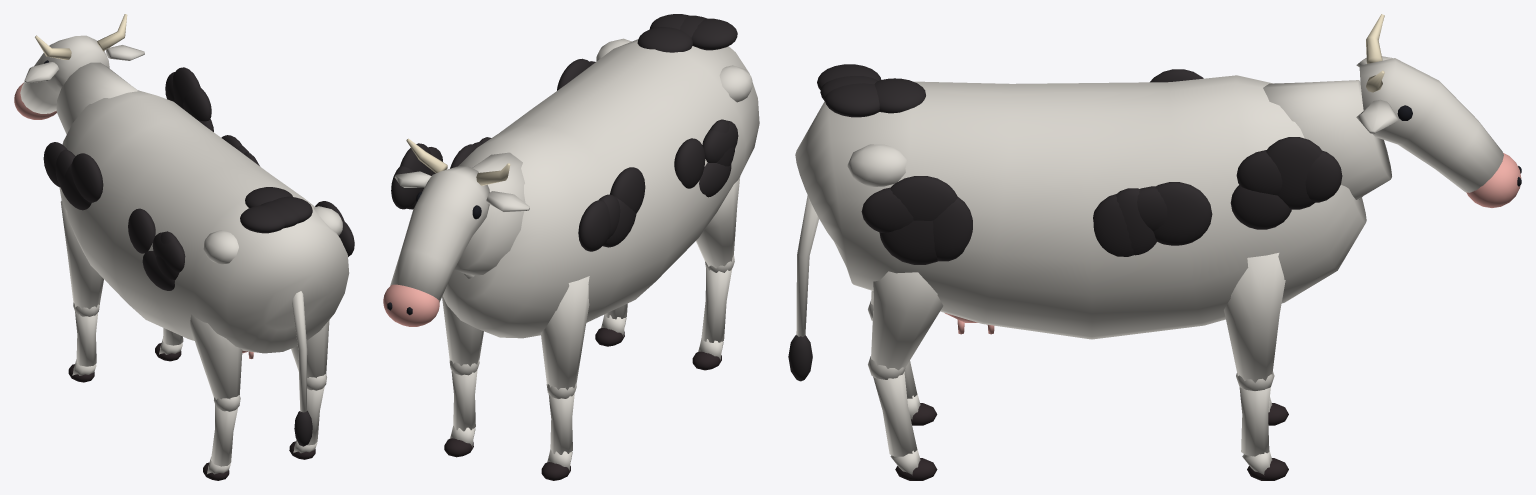
The model's file is beast_cow.glb.
The picture shows the model from 3 angles, left to right: view 1: azimuth 30°, elevation 25°; view 2: azimuth 150°, elevation 25°; view 3: azimuth 270°, elevation 25°; orthographic projection. The views are drawn at different scales.
Visible parts, largest first — view 1: body, head, leg_br, neck, leg_fr, tail, shin_br, shin_fr, leg_bl, shin_bl, shin_fl, ear_r (+1 smaller); view 2: body, head, neck, leg_fr, shin_br, leg_br, shin_fl, shin_fr, leg_fl, shin_bl, ear_r, ear_l; view 3: body, head, neck, leg_fl, leg_bl, shin_bl, shin_fl, tail, shin_br, ear_l.
Part boxes in pixels (bbox=[...]): body: bbox=[43, 67, 354, 358]; head: bbox=[14, 14, 127, 119]; leg_br: bbox=[190, 314, 242, 411]; neck: bbox=[56, 62, 137, 134]; leg_fr: bbox=[60, 200, 103, 316]; tail: bbox=[292, 291, 312, 446]; shin_br: bbox=[203, 404, 238, 480]; shin_fr: bbox=[68, 311, 97, 382]; leg_bl: bbox=[291, 320, 329, 390]; shin_bl: bbox=[289, 387, 324, 459]; shin_fl: bbox=[155, 328, 183, 361]; ear_r: bbox=[24, 62, 59, 83]; body: bbox=[391, 14, 759, 338]; head: bbox=[383, 138, 510, 326]; neck: bbox=[454, 152, 525, 278]; leg_fr: bbox=[540, 276, 589, 398]; shin_br: bbox=[692, 267, 732, 370]; leg_br: bbox=[696, 176, 740, 272]; shin_fl: bbox=[444, 369, 477, 457]; shin_fr: bbox=[541, 393, 574, 480]; leg_fl: bbox=[442, 296, 483, 375]; shin_bl: bbox=[595, 303, 627, 346]; ear_r: bbox=[486, 191, 529, 211]; ear_l: bbox=[394, 171, 431, 187]; body: bbox=[795, 64, 1366, 339]; head: bbox=[1359, 14, 1521, 207]; neck: bbox=[1263, 80, 1391, 199]; leg_fl: bbox=[1224, 253, 1285, 390]; leg_bl: bbox=[868, 271, 943, 379]; shin_bl: bbox=[873, 372, 937, 480]; shin_fl: bbox=[1239, 387, 1288, 480]; tail: bbox=[788, 195, 818, 381]; shin_br: bbox=[904, 361, 937, 425]; ear_l: bbox=[1356, 99, 1398, 133].
Size of the model in its own units: 0.9 by 1.66 by 2.69.
